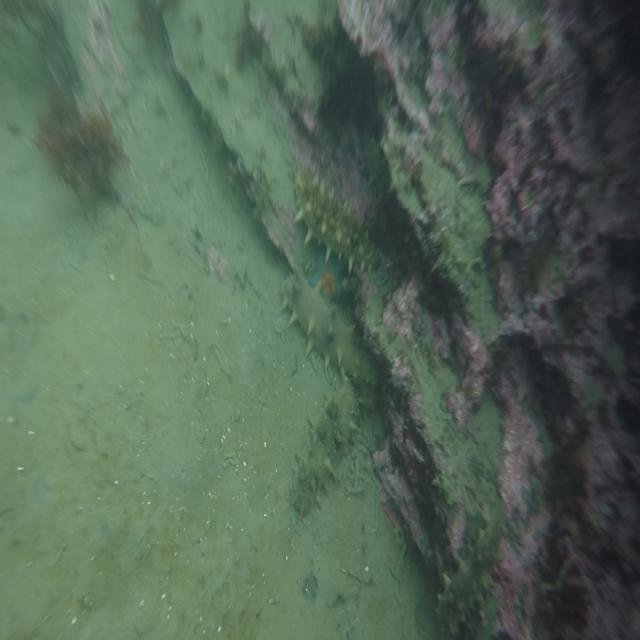holothurian: (280, 273, 390, 388), (292, 167, 394, 280), (288, 384, 374, 512), (430, 506, 506, 636)
starfish: (307, 244, 349, 303)
